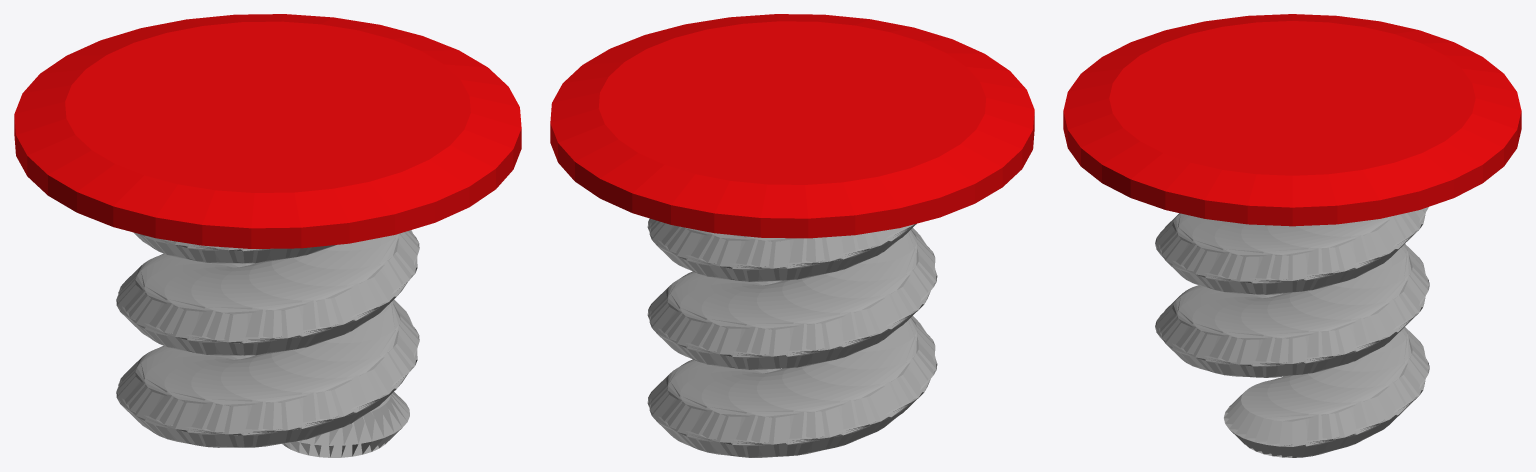
File: spring.glb
3 renders of one model, left to right at view 1: azimuth 30°, elevation 25°; view 2: azimuth 150°, elevation 25°; view 3: azimuth 270°, elevation 25°, orthographic. The views are drawn at different scales.
Visible parts, largest first — view 1: Pad, Spring; view 2: Pad, Spring; view 3: Pad, Spring.
Part boxes in pixels (left/top/right/bottom): Pad: left=14, top=14, right=521, bottom=248; Spring: left=116, top=230, right=419, bottom=457; Pad: left=550, top=14, right=1034, bottom=238; Spring: left=647, top=218, right=937, bottom=457; Pad: left=1063, top=14, right=1521, bottom=226; Spring: left=1155, top=207, right=1429, bottom=457.
Size of the model in its own units: 1 by 0.7438 by 1.
